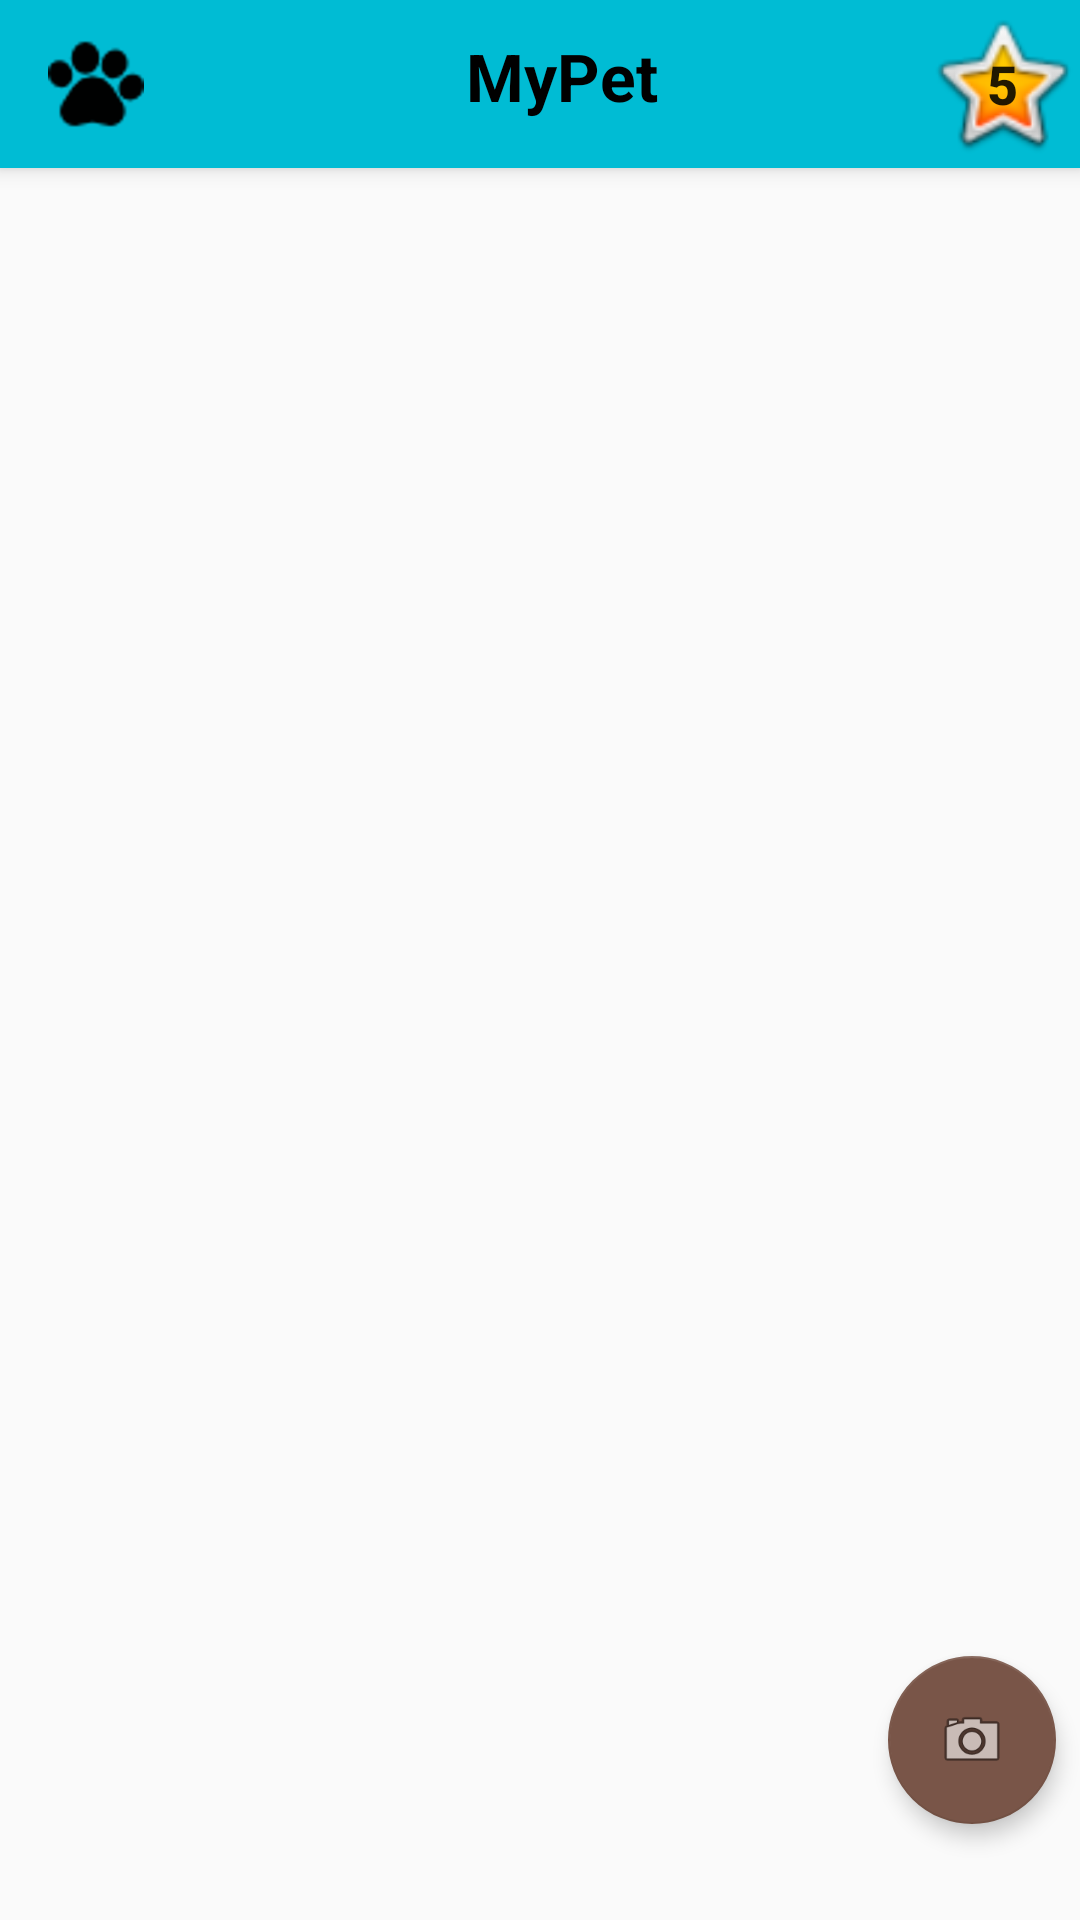

Screen size 1080*1920. Icon name, then its box in pixels as (x1, y1, x2, y2):
camera: (888, 1656, 1056, 1824)
huella mascota: (48, 41, 144, 127)
